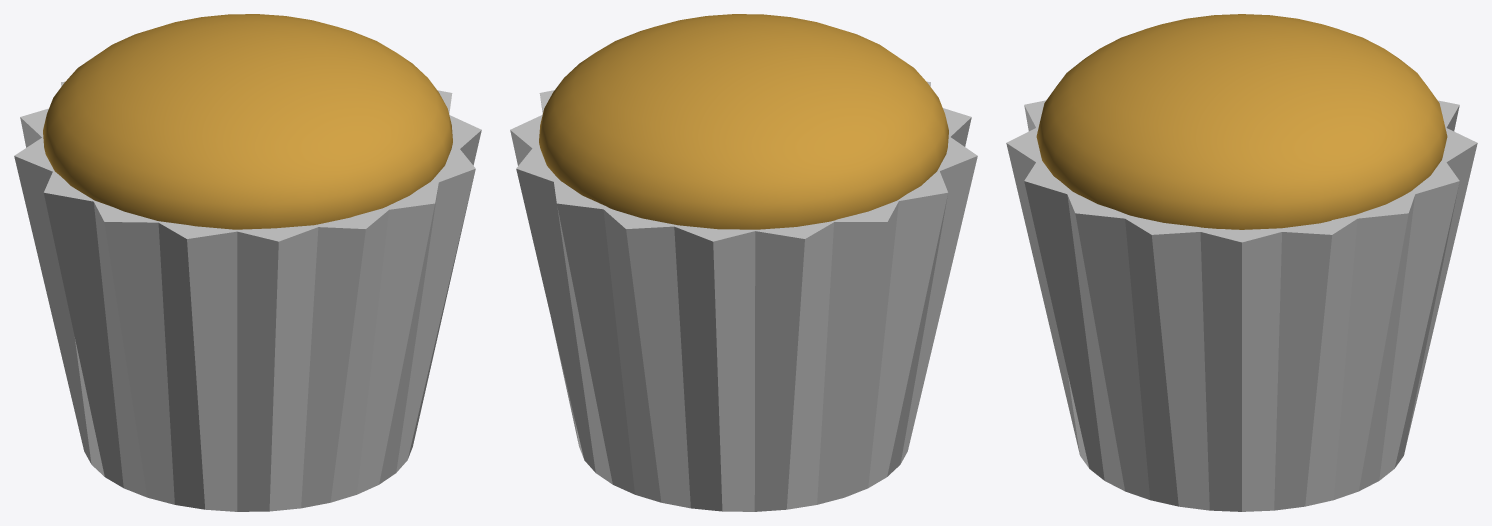
The model's file is muffin3part.obj.
3 renders of one model, left to right at view 1: azimuth 30°, elevation 25°; view 2: azimuth 150°, elevation 25°; view 3: azimuth 270°, elevation 25°, orthographic.
Parts seen in each view (by area): view 1: Cylinder, Sphere; view 2: Cylinder, Sphere; view 3: Cylinder, Sphere.
Part boxes in pixels (x1,y1,x2,y2): Cylinder: [14, 81, 481, 511]; Sphere: [43, 14, 452, 229]; Cylinder: [510, 81, 977, 511]; Sphere: [539, 14, 948, 229]; Cylinder: [1006, 100, 1477, 511]; Sphere: [1036, 14, 1447, 229].
Size of the model in its own units: 2.86 by 2.63 by 2.86.
